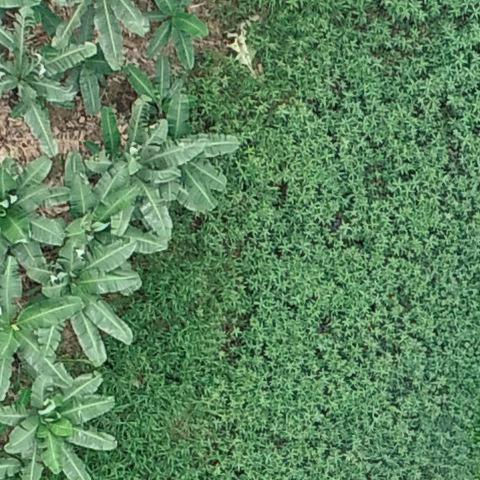Banana-plant: (0, 6, 93, 156), (45, 229, 135, 368), (0, 376, 110, 480), (90, 134, 191, 244), (2, 259, 74, 404), (0, 158, 69, 274), (120, 54, 204, 147), (137, 0, 204, 82)
